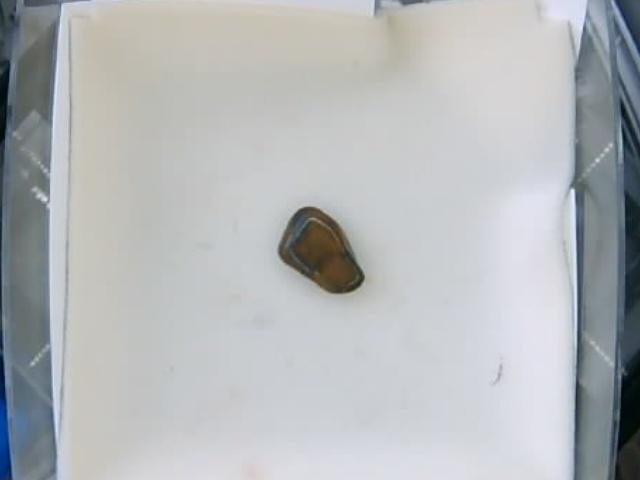Pebble: (274, 203, 366, 294)
